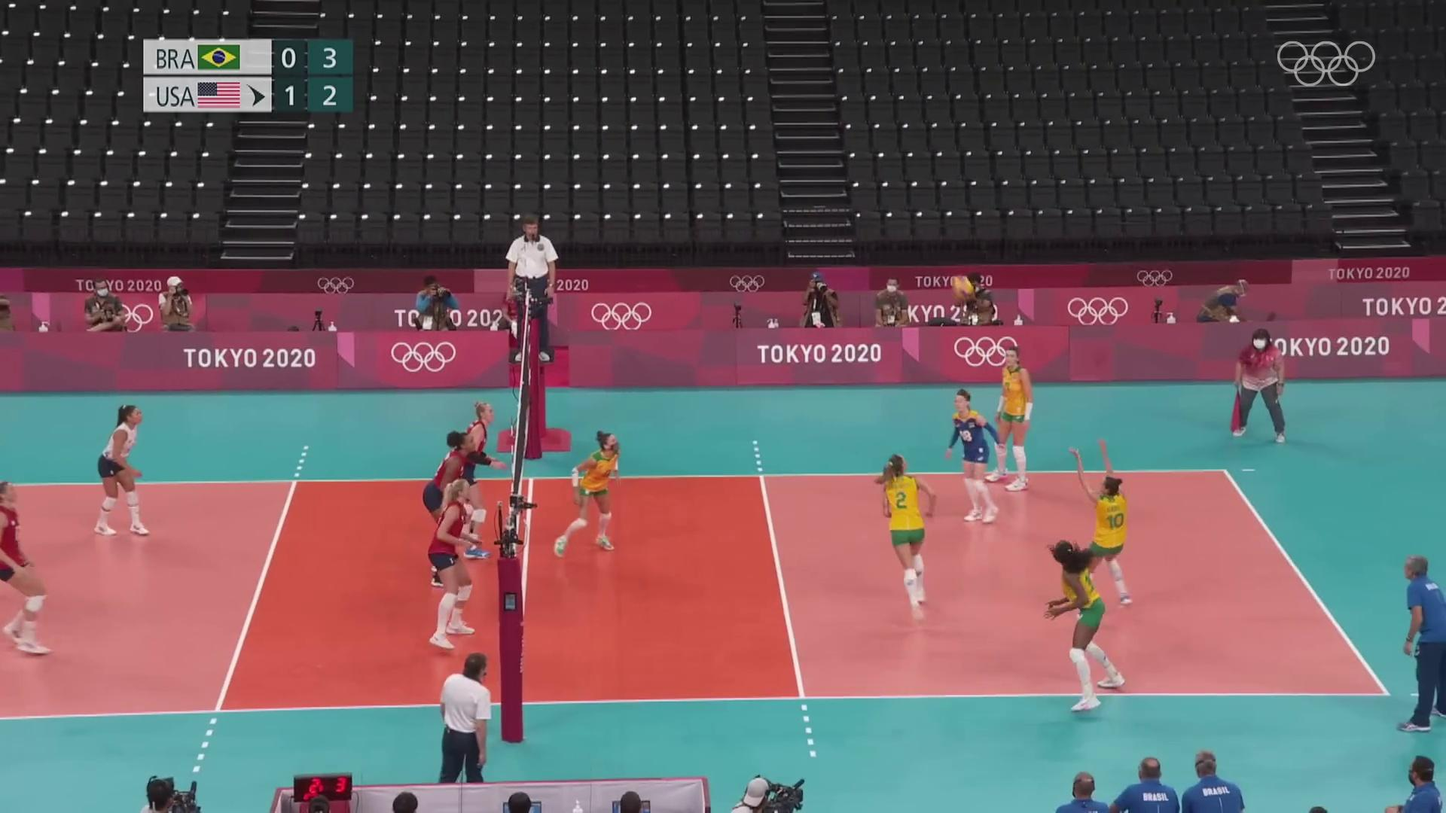player: (1051, 542, 1122, 711), (873, 457, 942, 612), (1, 485, 54, 660), (945, 391, 1008, 527), (560, 433, 626, 557), (430, 479, 477, 650), (445, 400, 498, 541), (423, 429, 480, 559), (98, 406, 154, 537), (985, 345, 1034, 492), (1079, 481, 1130, 611)
refree: (434, 656, 491, 813), (507, 215, 553, 362), (1232, 329, 1286, 440)
